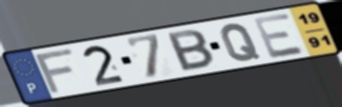2: (82, 44, 127, 87)
7: (125, 32, 164, 80)
B: (165, 28, 217, 74)
E: (250, 11, 308, 60)
F: (32, 46, 77, 96)
Q: (219, 22, 264, 63)
